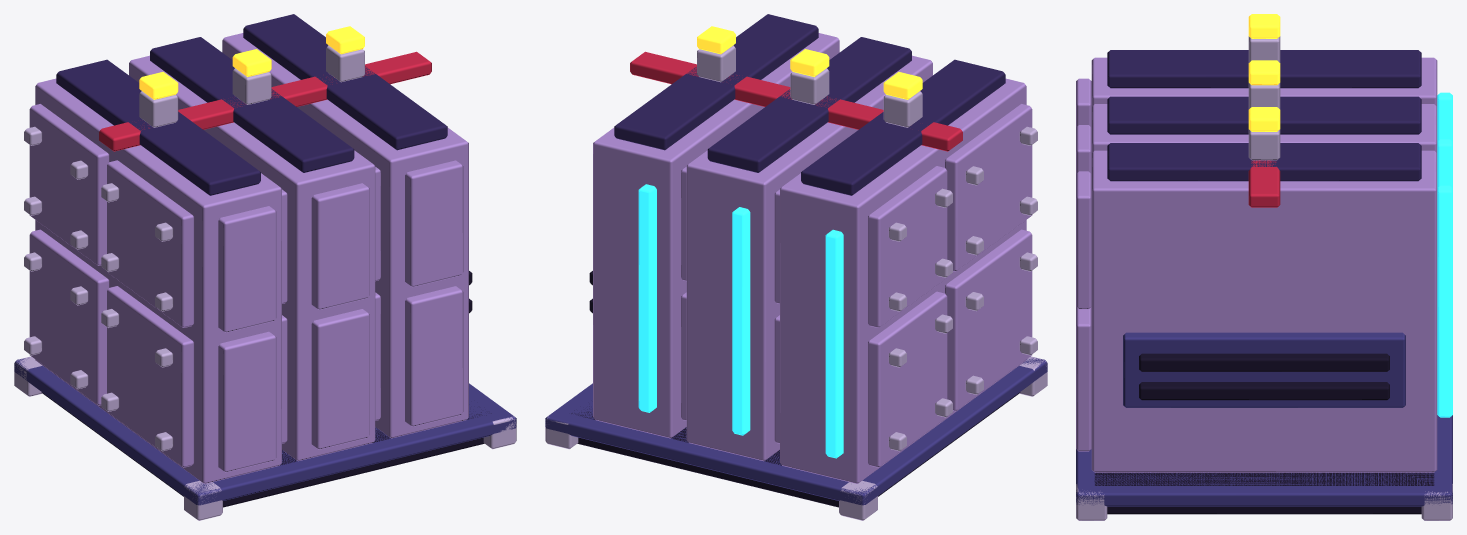
Rendered from battery.lg.glb.
3 views of the same model, side by side, from view 1: azimuth 30°, elevation 25°; view 2: azimuth 150°, elevation 25°; view 3: azimuth 270°, elevation 25° (orthographic).
Parts seen in each view (by area): view 1: battery.lg; view 2: battery.lg; view 3: battery.lg.
Part boxes in pixels (box(x1,y1,x2,y2)): battery.lg: box(14, 14, 516, 520); battery.lg: box(545, 14, 1047, 520); battery.lg: box(1076, 14, 1452, 520).
Size of the model in its own units: 1.56 by 1.62 by 1.5.
